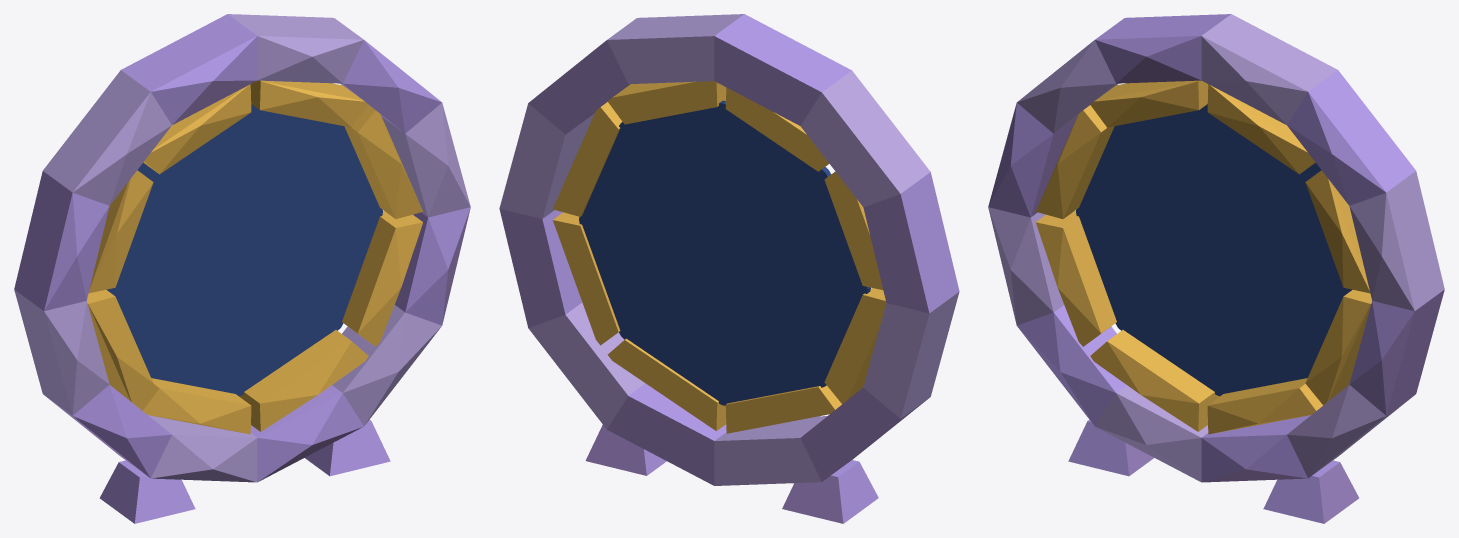
Rendered from portal_main.glb.
3 renders of one model, left to right at view 1: azimuth 30°, elevation 25°; view 2: azimuth 150°, elevation 25°; view 3: azimuth 330°, elevation 25°, orthographic.
Visible parts, largest first — view 1: ring_inner, ring_outer; view 2: ring_inner, ring_outer; view 3: ring_inner, ring_outer.
Part boxes in pixels (box(x1,y1,x2,y2)): ring_inner: box(87, 80, 422, 434); ring_outer: box(14, 14, 470, 523); ring_inner: box(553, 81, 886, 433); ring_outer: box(499, 14, 959, 523); ring_inner: box(1036, 80, 1371, 434); ring_outer: box(988, 14, 1444, 523).
Size of the model in its own units: 0.14 by 0.142 by 0.02.
